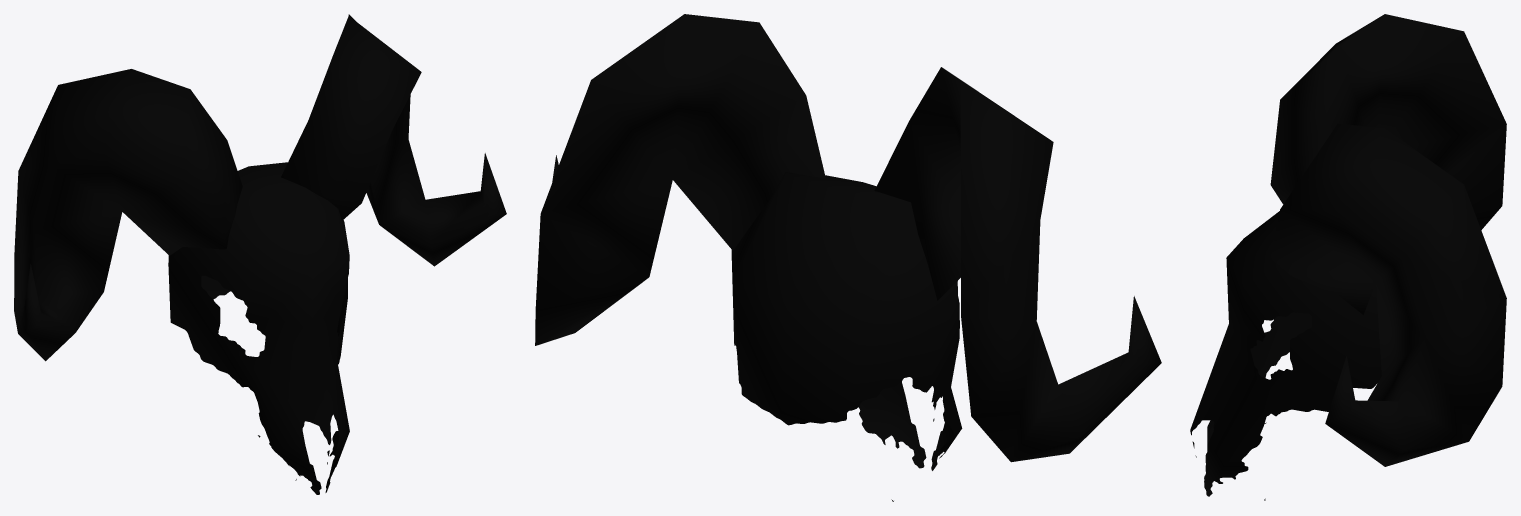
Rendered from sentry_3e433f1a.glb.
3 views of the same model, side by side, from view 1: azimuth 30°, elevation 25°; view 2: azimuth 150°, elevation 25°; view 3: azimuth 270°, elevation 25° (orthographic). The views are drawn at different scales.
Bounding box in the file's own units: 0.8376 × 0.6677 × 0.4449.
1 material, 1 textured.
